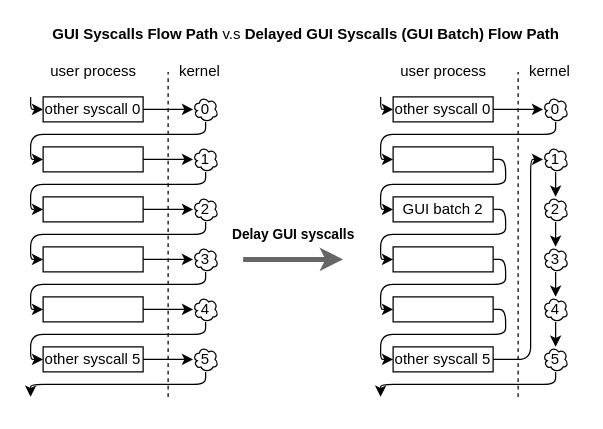
Image size: 603x429. Some labels were removed from this diagram. Here are the shapes that lost their labels. From the top down, the centre of each, then its label:
[92,159]: GUI syscall 1
[442,159]: GUI batch 1
[92,209]: GUI syscall 2
[92,259]: GUI syscall 3
[442,259]: GUI batch 3
[92,309]: GUI syscall 4
[442,309]: GUI batch 4
